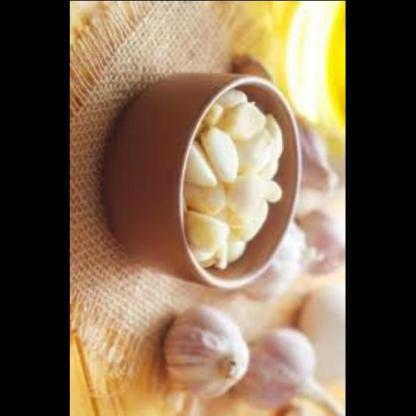garlic: (167, 79, 289, 281), (158, 298, 258, 403), (243, 319, 324, 416), (233, 221, 317, 314), (290, 112, 342, 210), (230, 45, 279, 92)
